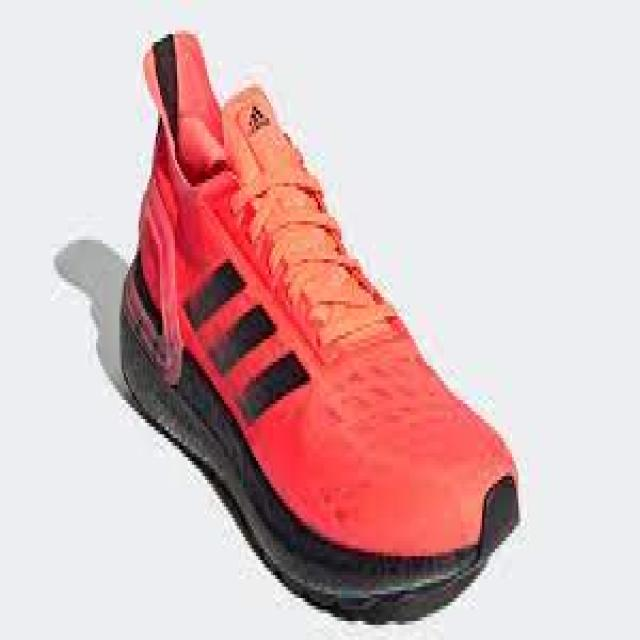shoe: (118, 27, 522, 624)
